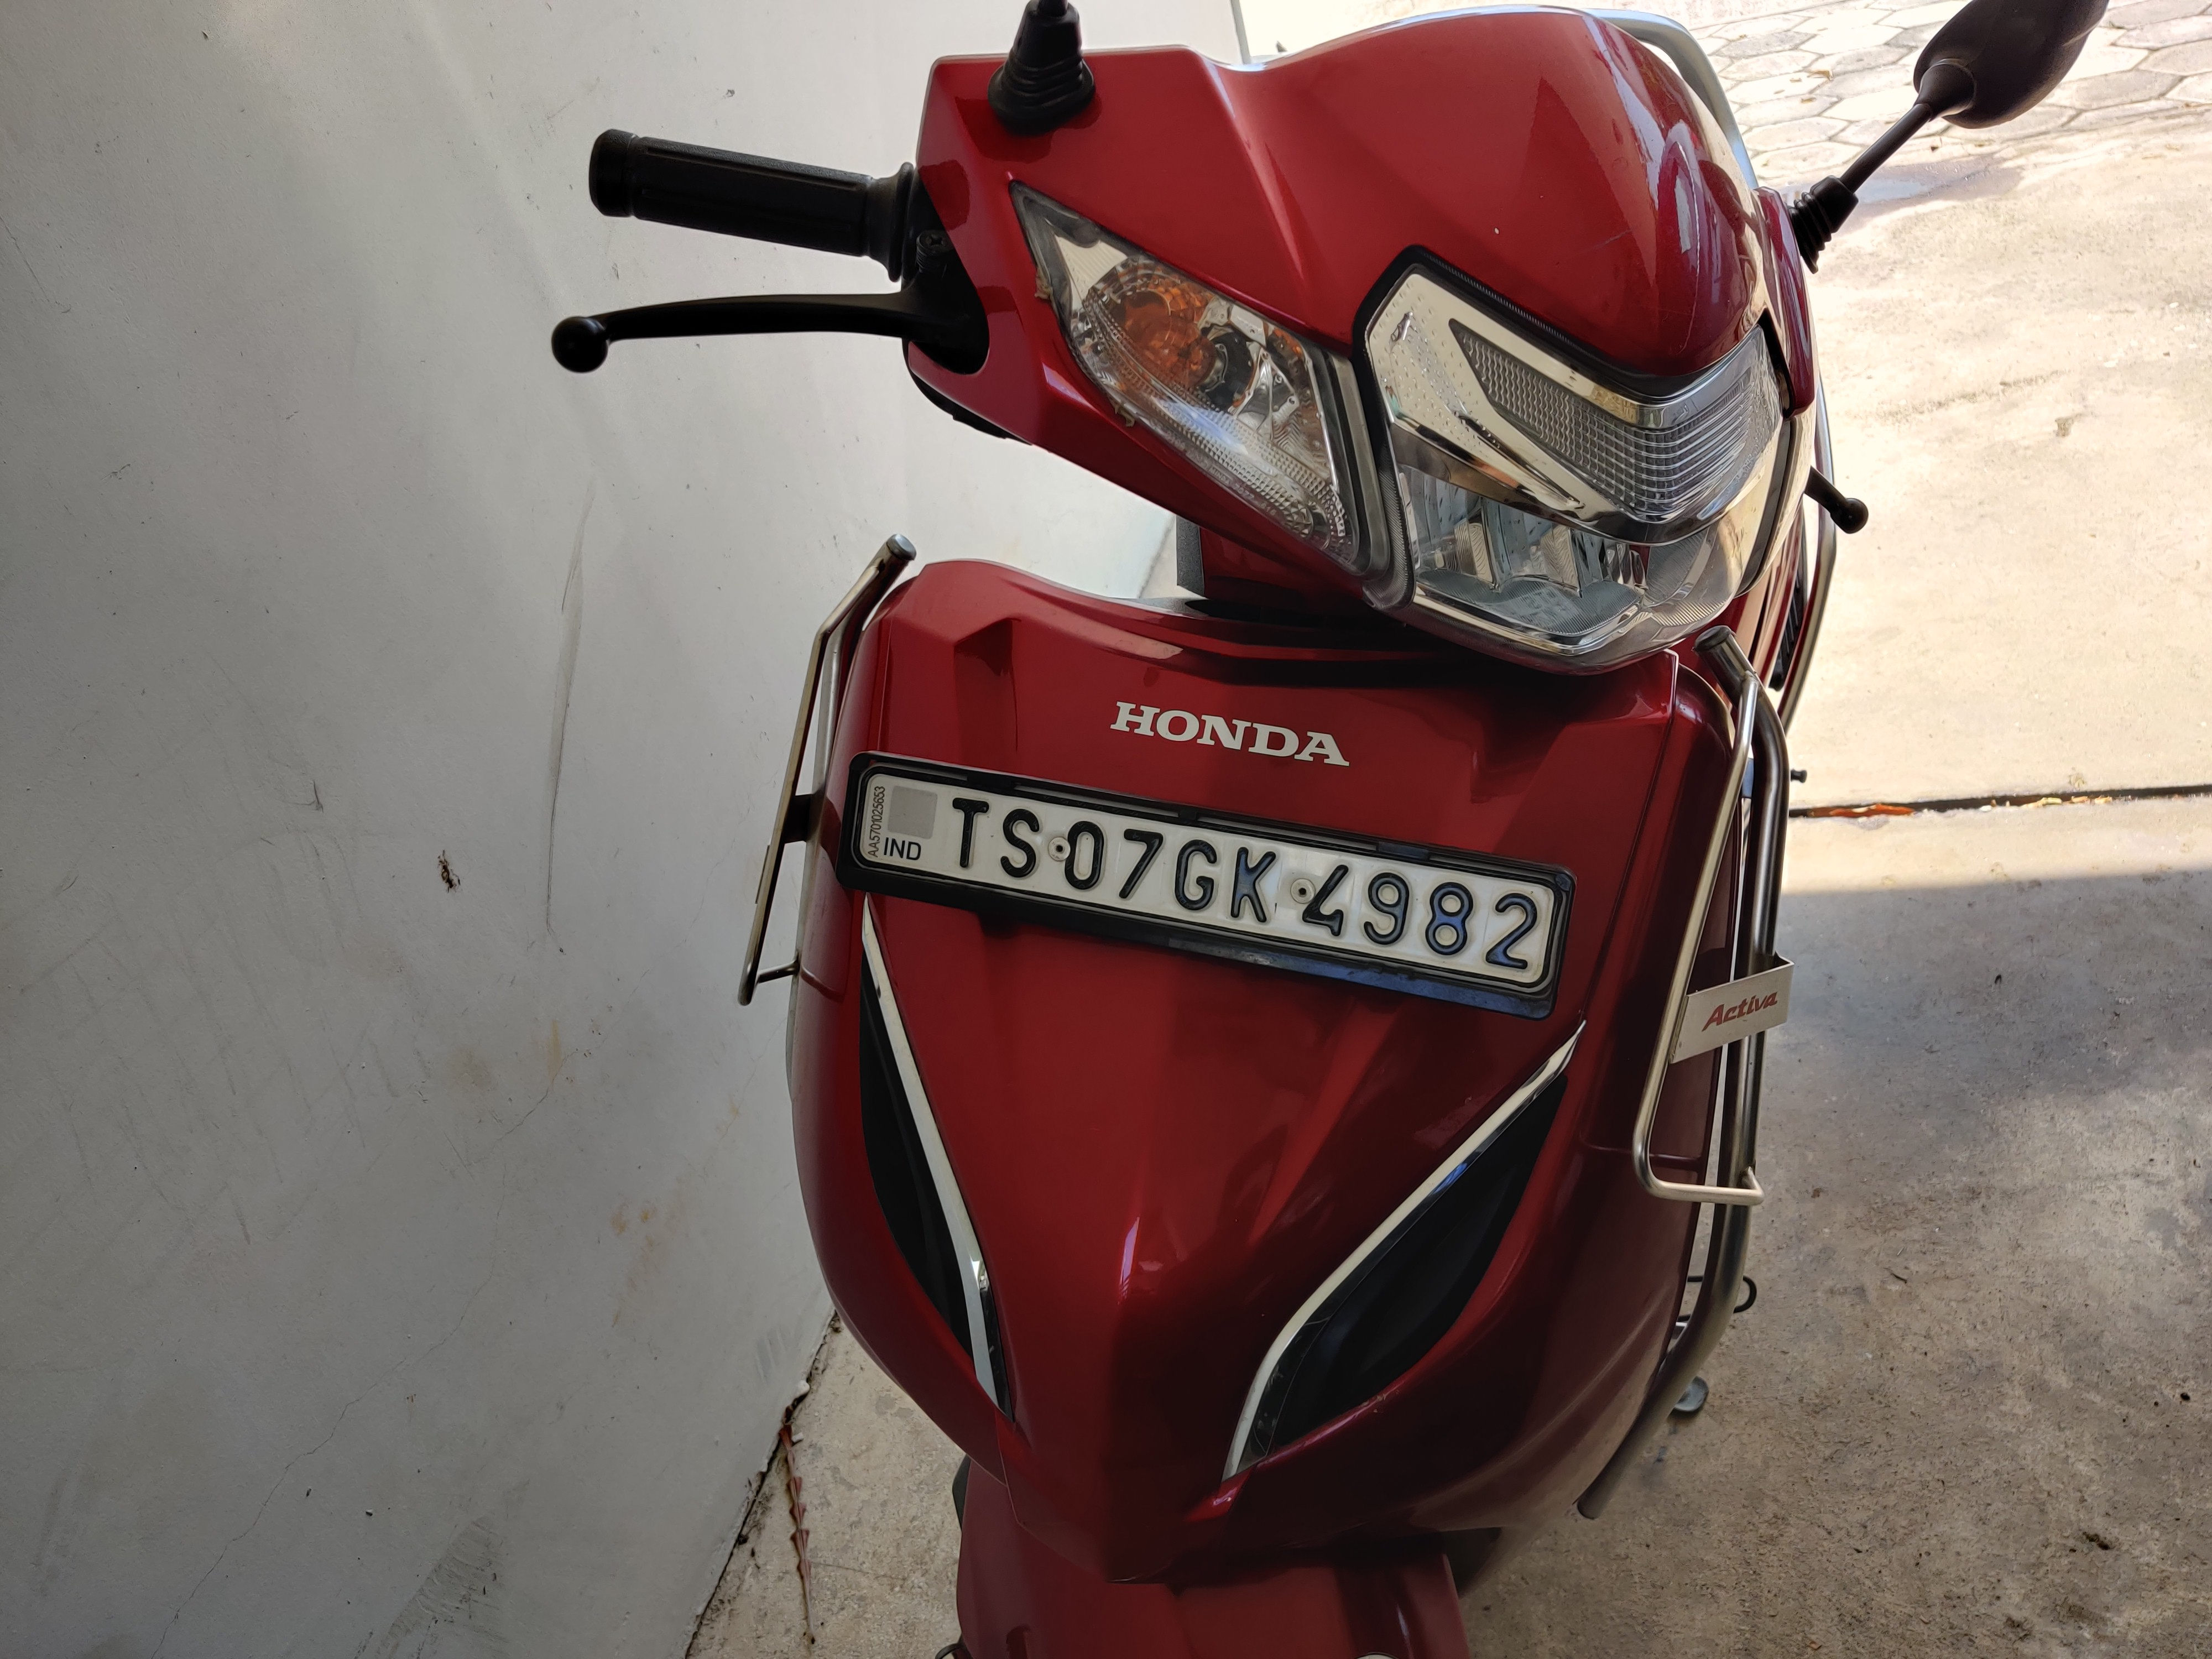plate: (820, 721, 1613, 1052)
